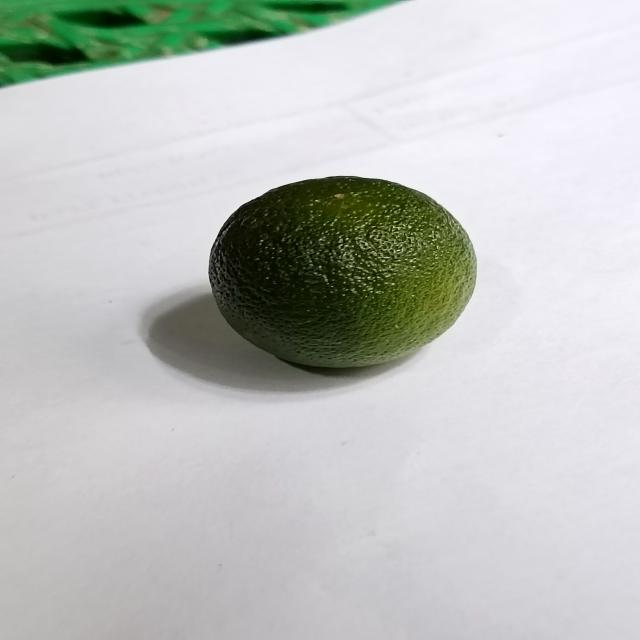heathy: (206, 171, 480, 371)
